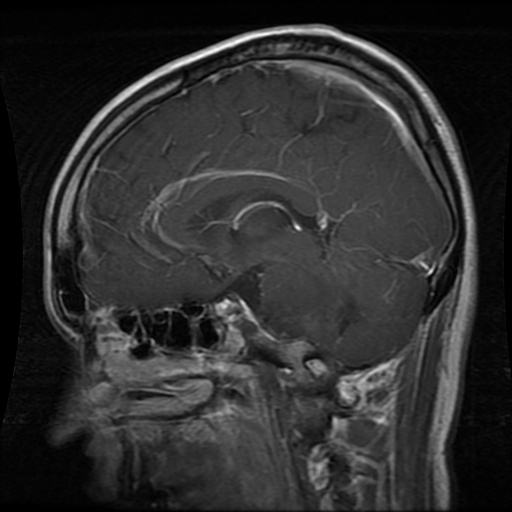glioma: (263, 267, 334, 331)
